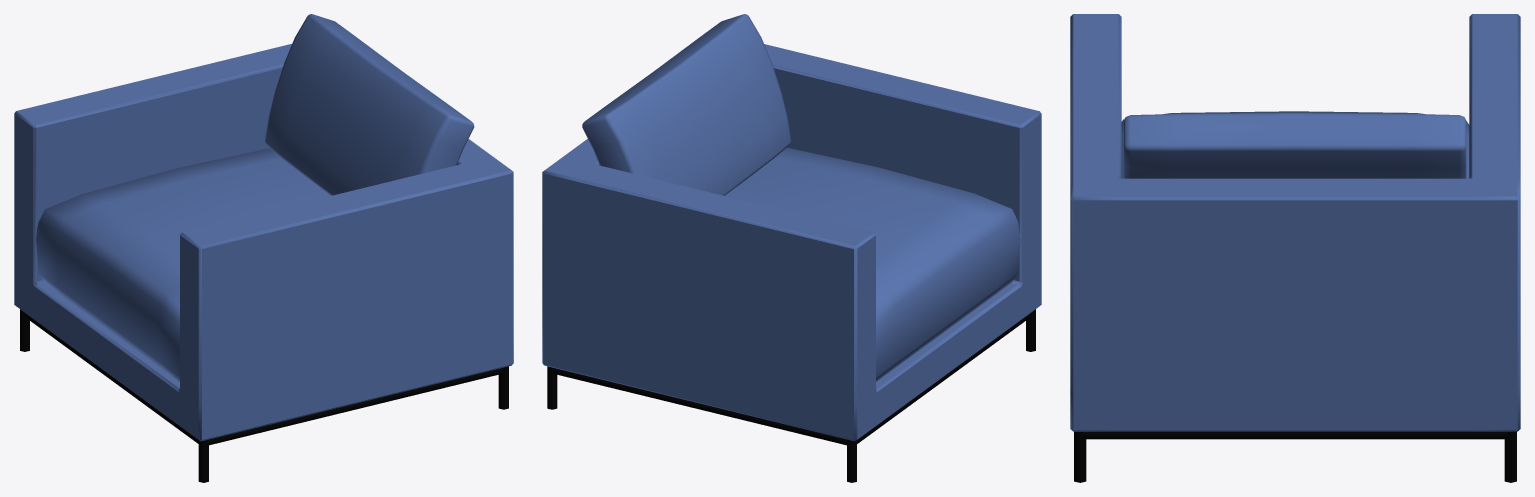
File: meko chair 12.fbx
3 views of the same model, side by side, from view 1: azimuth 30°, elevation 25°; view 2: azimuth 150°, elevation 25°; view 3: azimuth 270°, elevation 25° (orthographic). The views are drawn at different scales.
Parts seen in each view (by area): view 1: base, seat, back, metal; view 2: base, seat, back, metal; view 3: base, back, metal, seat.
Boxes of the visible parts, x1,y1,x2,y2 form: base: (14, 44, 513, 441); seat: (36, 148, 331, 381); back: (264, 14, 474, 195); metal: (20, 309, 508, 482); base: (542, 44, 1041, 441); seat: (725, 147, 1020, 381); back: (582, 14, 791, 195); metal: (547, 309, 1035, 482); base: (1070, 14, 1520, 431); back: (1124, 113, 1466, 178); metal: (1074, 431, 1516, 482); seat: (1121, 111, 1469, 178).
Size of the model in its own units: 74.94 by 65.04 by 77.06.
